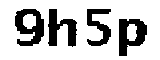5: (83, 5, 114, 51)
g: (10, 4, 44, 52)
h: (46, 4, 80, 51)
p: (115, 13, 148, 60)
